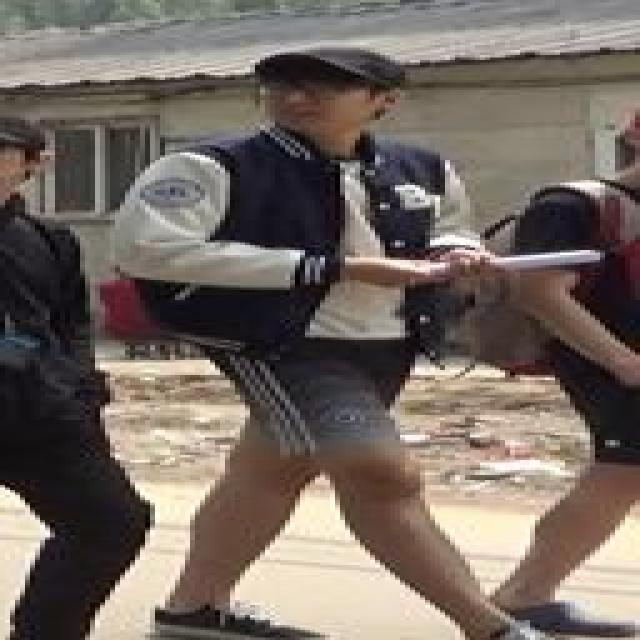adult: (108, 47, 525, 640), (0, 122, 145, 640), (498, 120, 640, 640)
